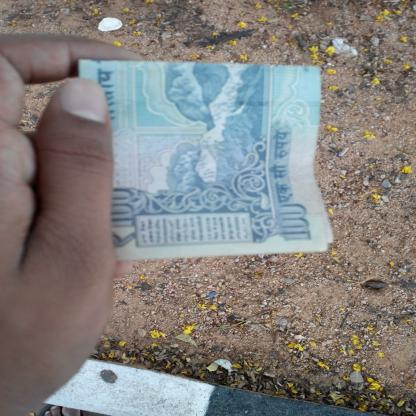Old100Back: (77, 58, 336, 260)
